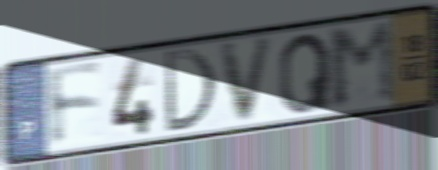4: (110, 54, 156, 138)
D: (161, 46, 220, 135)
F: (45, 60, 106, 152)
M: (325, 18, 400, 113)
Q: (277, 30, 333, 118)
V: (217, 32, 277, 127)
